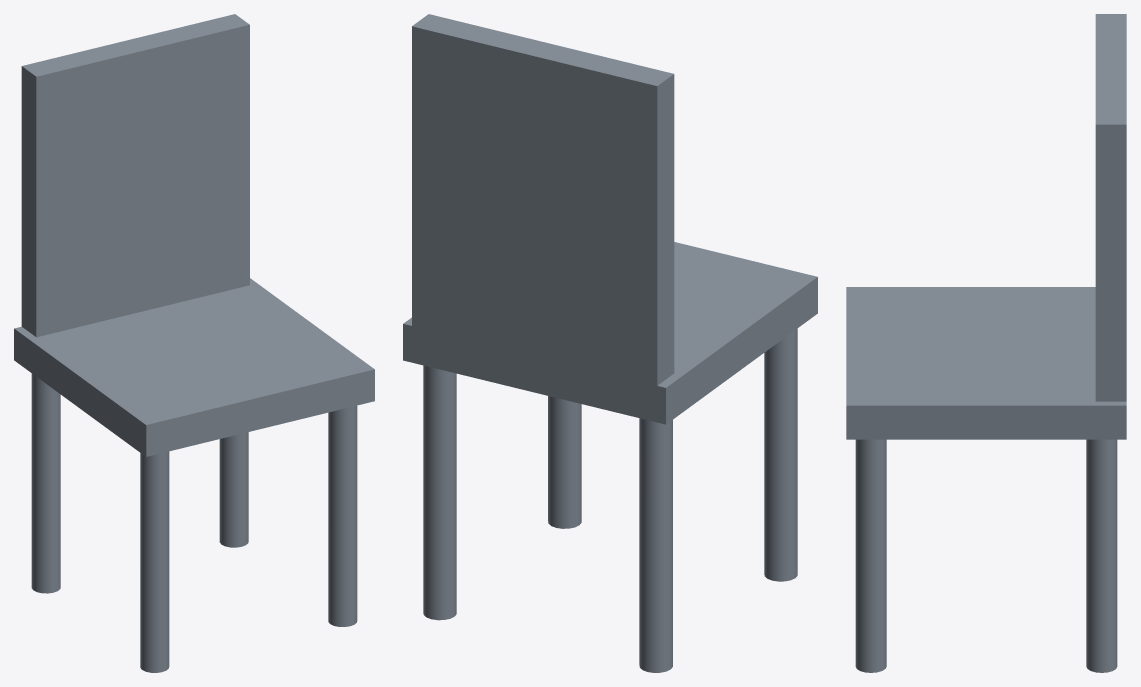
Rendered from dining-chair.glb.
3 views of the same model, side by side, from view 1: azimuth 30°, elevation 25°; view 2: azimuth 150°, elevation 25°; view 3: azimuth 270°, elevation 25° (orthographic). The views are drawn at different scales.
Visible parts, largest first — view 1: dining-chair; view 2: dining-chair; view 3: dining-chair.
Boxes of the visible parts, left/top/right/bottom form: dining-chair: left=14, top=14, right=374, bottom=672; dining-chair: left=403, top=14, right=817, bottom=672; dining-chair: left=846, top=14, right=1126, bottom=672.
Bounding box in the file's own units: 0.45 × 0.97 × 0.45.
